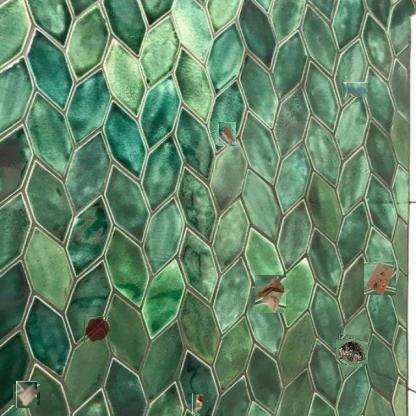dirty: (252, 277, 288, 311), (363, 262, 397, 294), (338, 336, 366, 366), (15, 382, 38, 406), (218, 122, 236, 146), (192, 394, 205, 416)
liquid: (84, 316, 110, 342), (342, 82, 368, 97)
